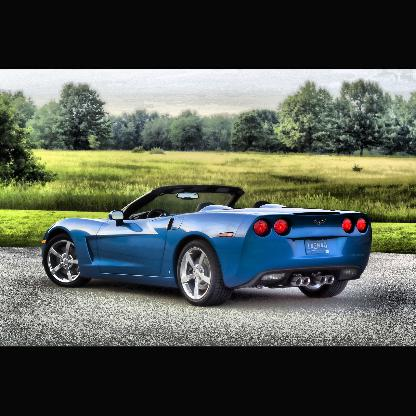Chevrolet Corvette Convertible 2012: (40, 186, 373, 306)
